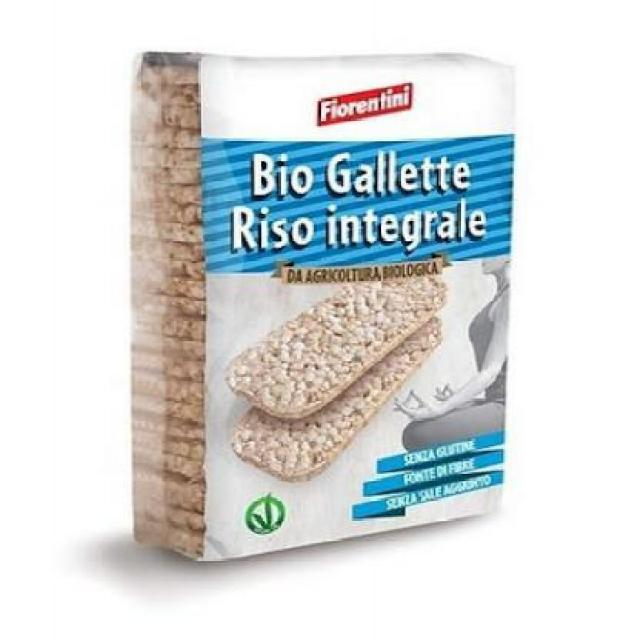Gallette di riso: (128, 51, 532, 564)
